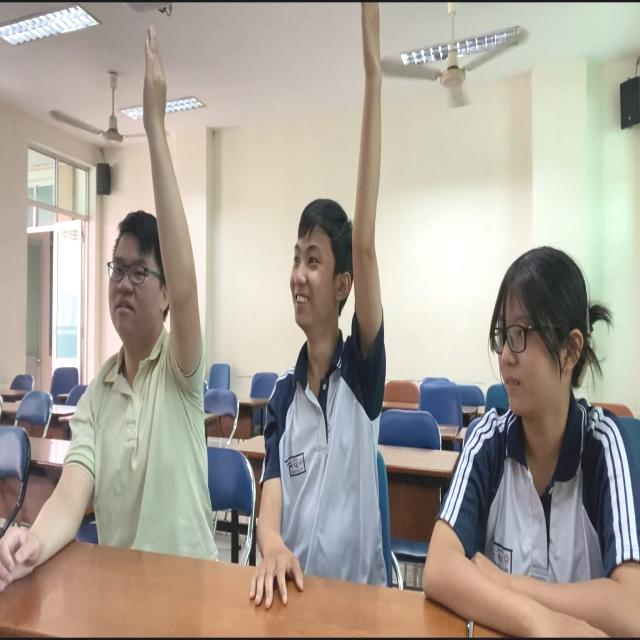raise_hand: (219, 1, 429, 623), (9, 10, 218, 616)
